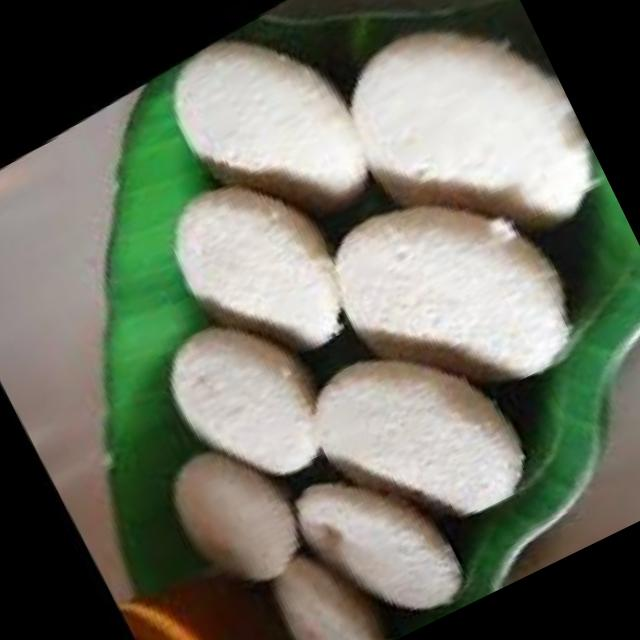idli: (317, 0, 619, 295), (308, 146, 594, 441), (286, 301, 541, 566), (148, 0, 390, 261), (146, 140, 370, 388), (145, 284, 344, 502), (279, 431, 469, 640), (151, 416, 314, 598), (253, 526, 392, 640)
